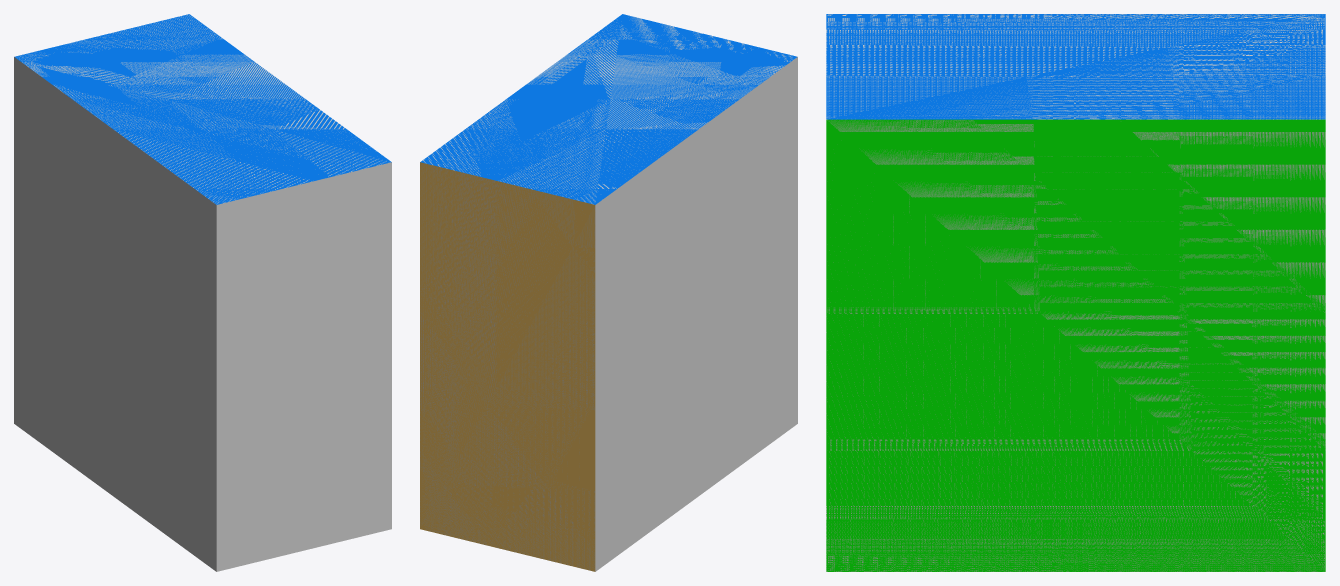
The model's file is Figura1.dae.
The picture shows the model from 3 angles, left to right: view 1: azimuth 30°, elevation 25°; view 2: azimuth 150°, elevation 25°; view 3: azimuth 270°, elevation 25°; orthographic projection. The views are drawn at different scales.
Visible parts, largest first — view 1: SketchUp (×2); view 2: SketchUp (×3); view 3: SketchUp (×2).
Part boxes in pixels (bbox=[...]): SketchUp (×2): bbox=[14, 14, 391, 571]; SketchUp (×3): bbox=[420, 14, 797, 571]; SketchUp (×2): bbox=[826, 14, 1325, 571].
Size of the model in its own units: 15.75 by 31.5 by 31.5.
